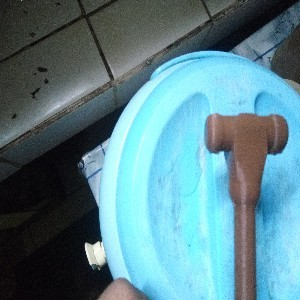palu: (203, 111, 289, 300)
